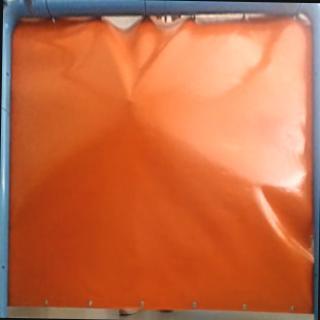Hit-hRxx: (124, 94, 134, 106)
